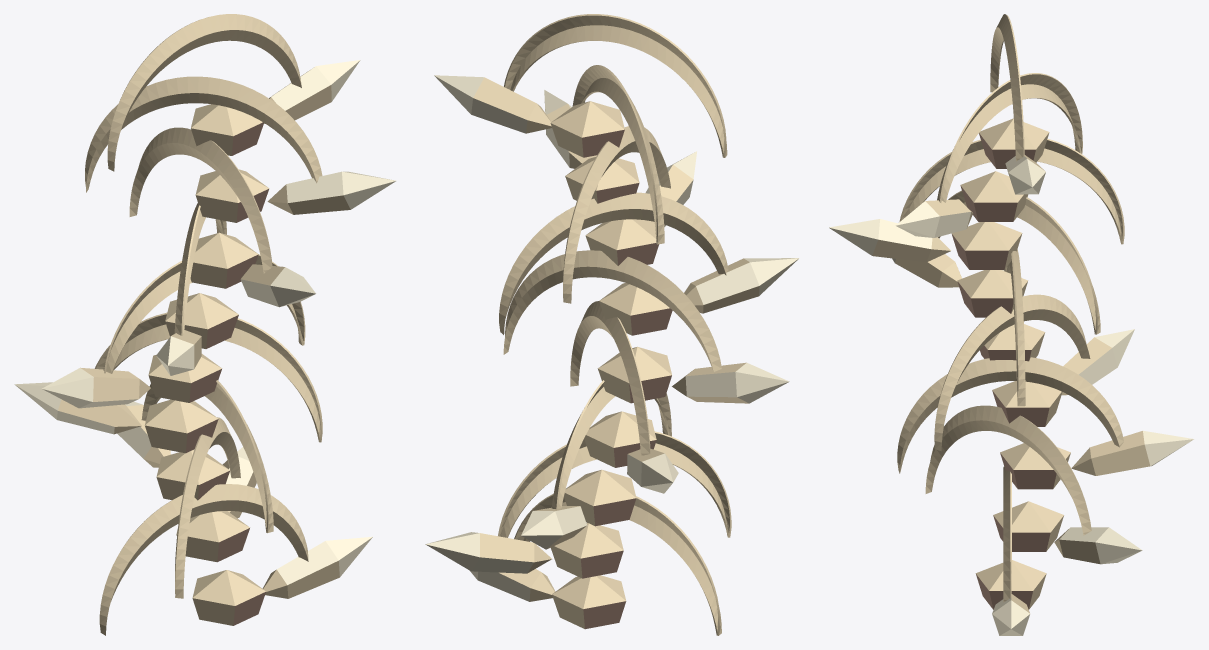
Rendered from VFX_63_OssaSpiraleVertebre.fbx.
3 views of the same model, side by side, from view 1: azimuth 30°, elevation 25°; view 2: azimuth 150°, elevation 25°; view 3: azimuth 270°, elevation 25° (orthographic). The views are drawn at different scales.
Visible parts, largest first — view 1: VFX_63_OssaSpiraleVertebre; view 2: VFX_63_OssaSpiraleVertebre; view 3: VFX_63_OssaSpiraleVertebre.
Part boxes in pixels (x1,y1,x2,y2): VFX_63_OssaSpiraleVertebre: (14,14,396,635); VFX_63_OssaSpiraleVertebre: (425,14,799,635); VFX_63_OssaSpiraleVertebre: (829,14,1193,635).
Size of the model in its own units: 181 by 312 by 180.
Materials: 1 (1 with a texture image).
